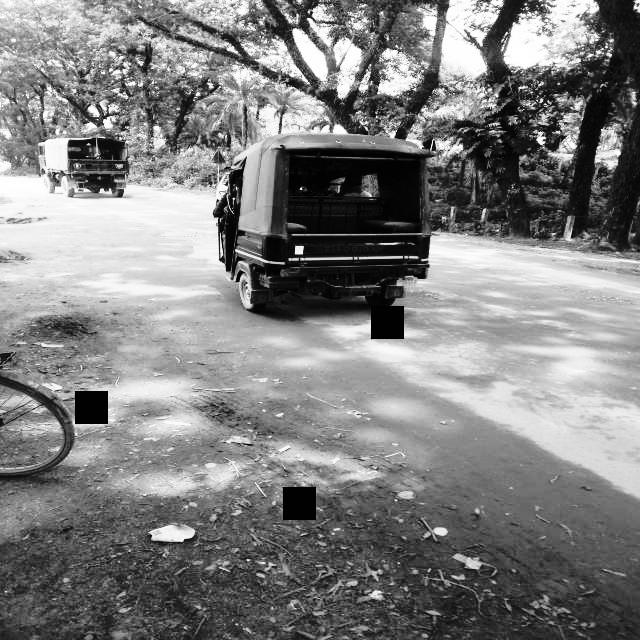Auto-Rickshaw: (200, 127, 449, 323)
